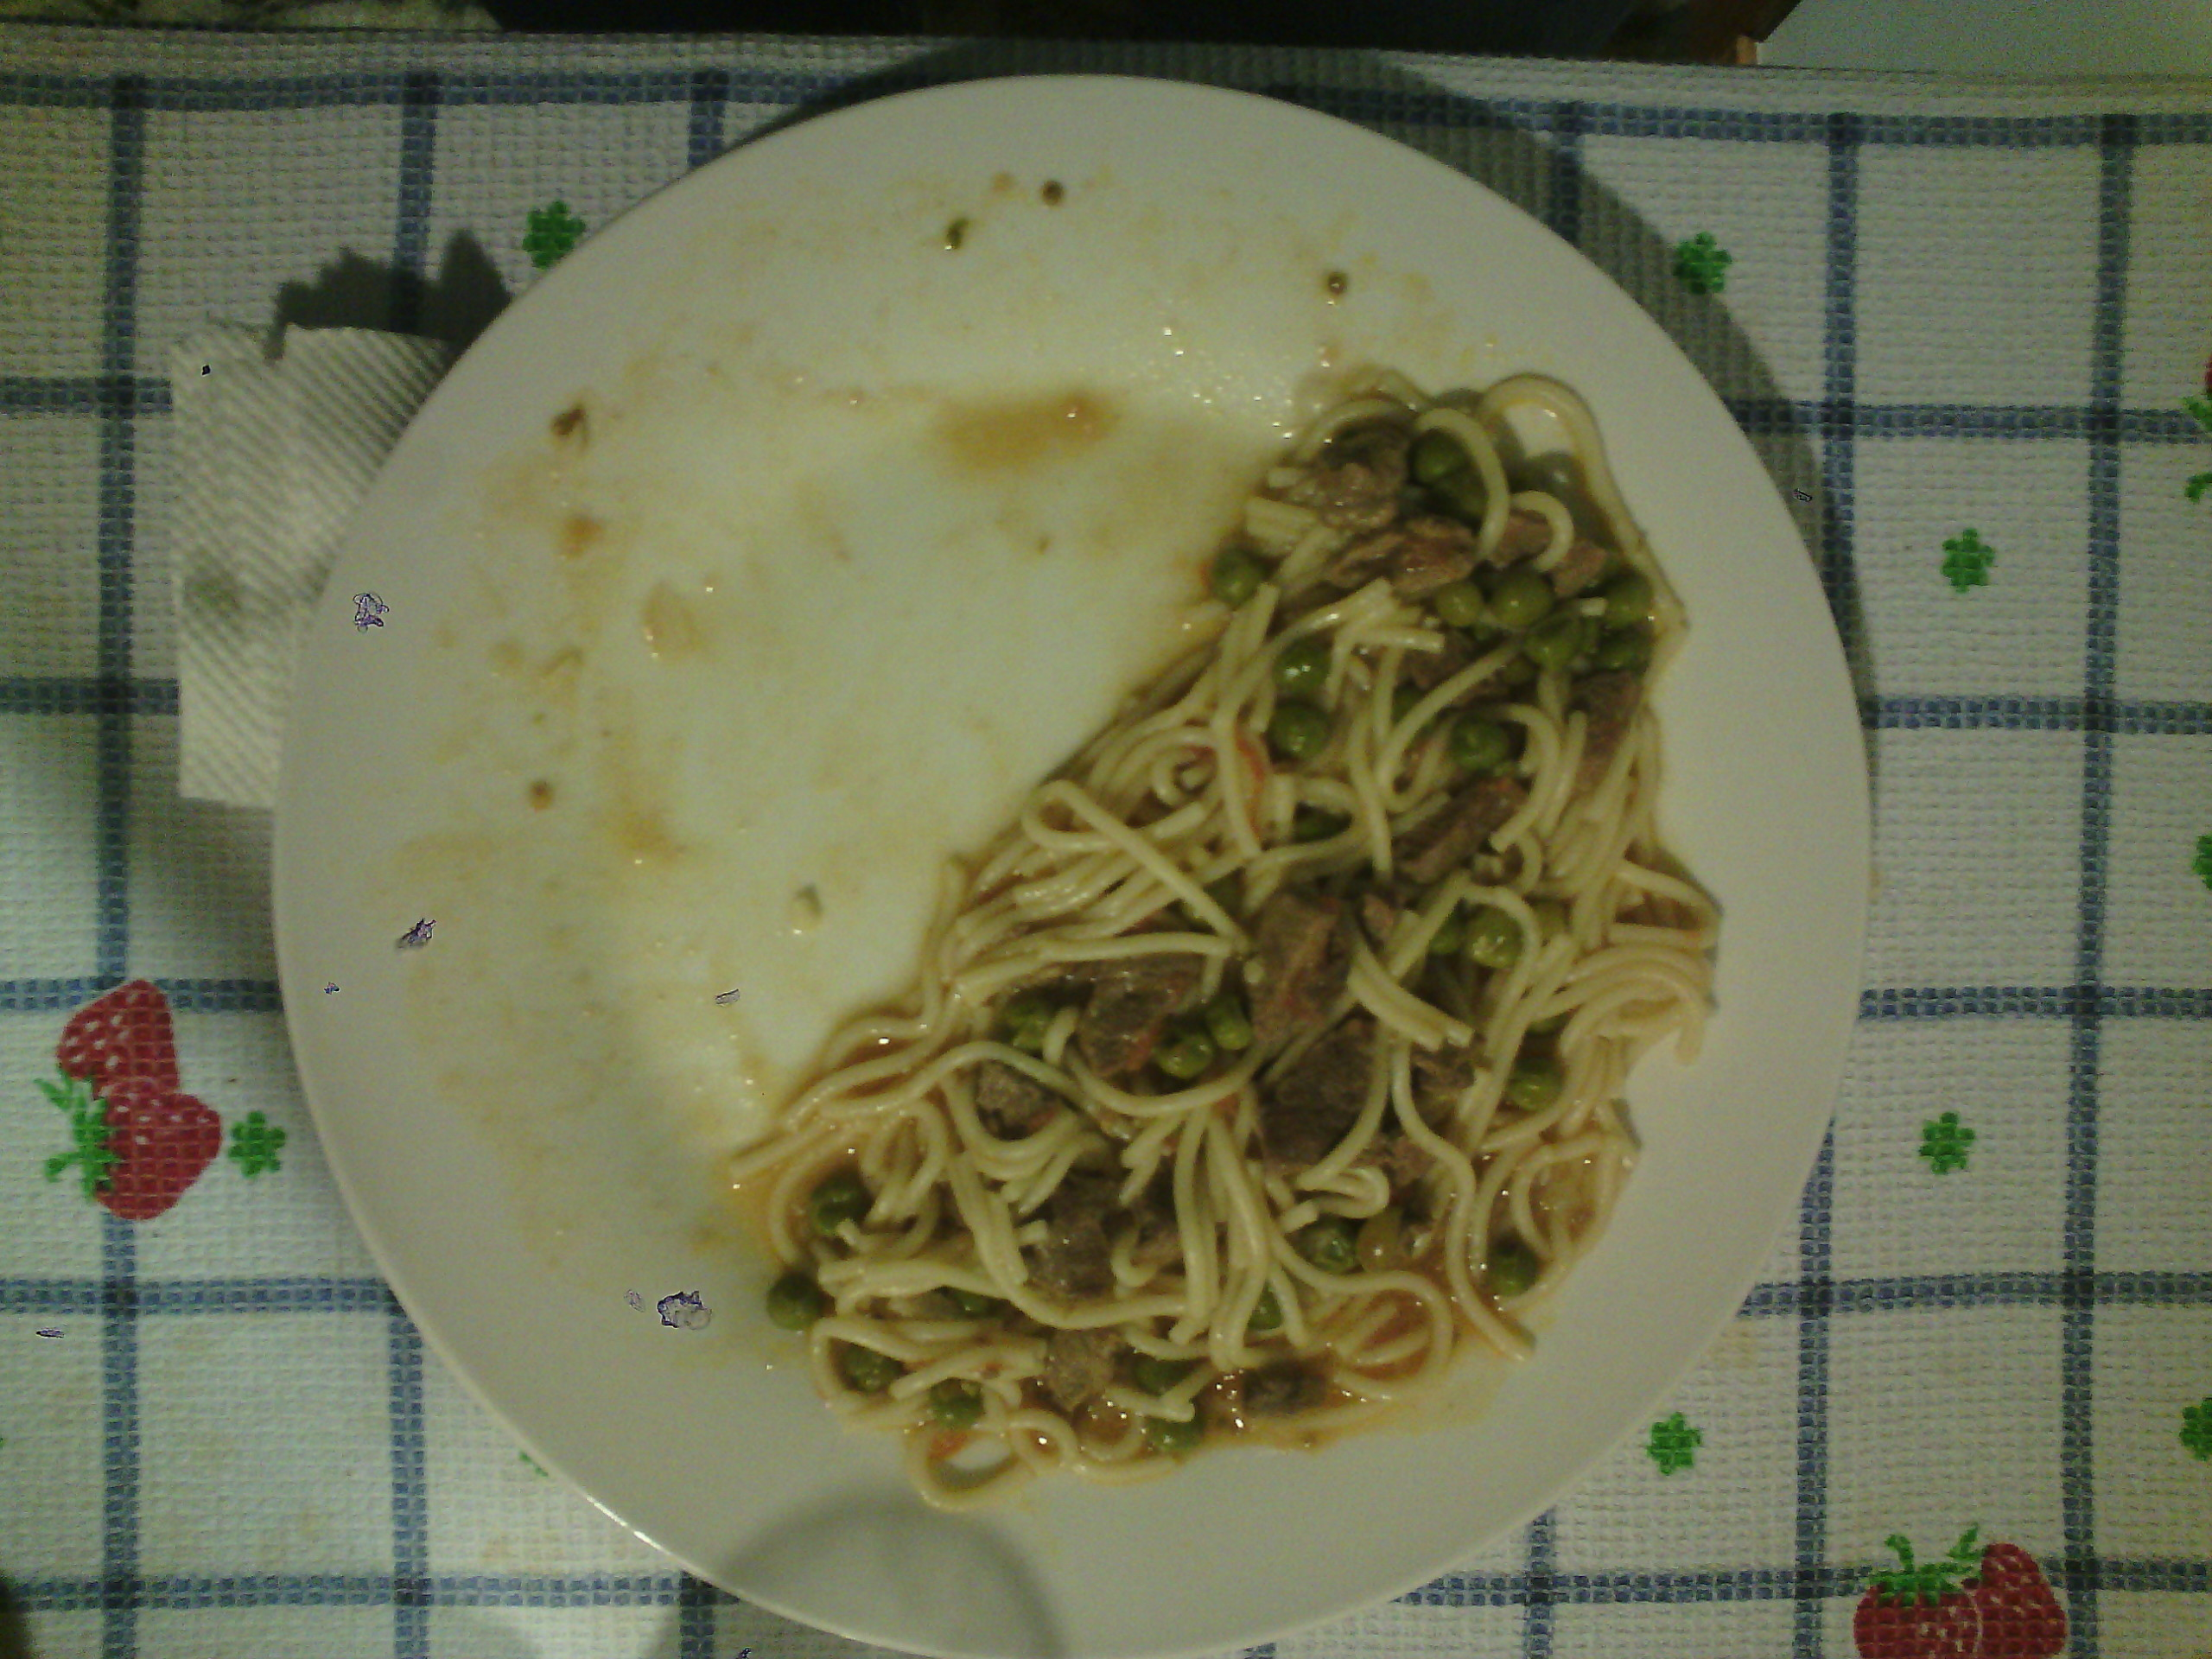41-60: (279, 82, 1872, 1657)
